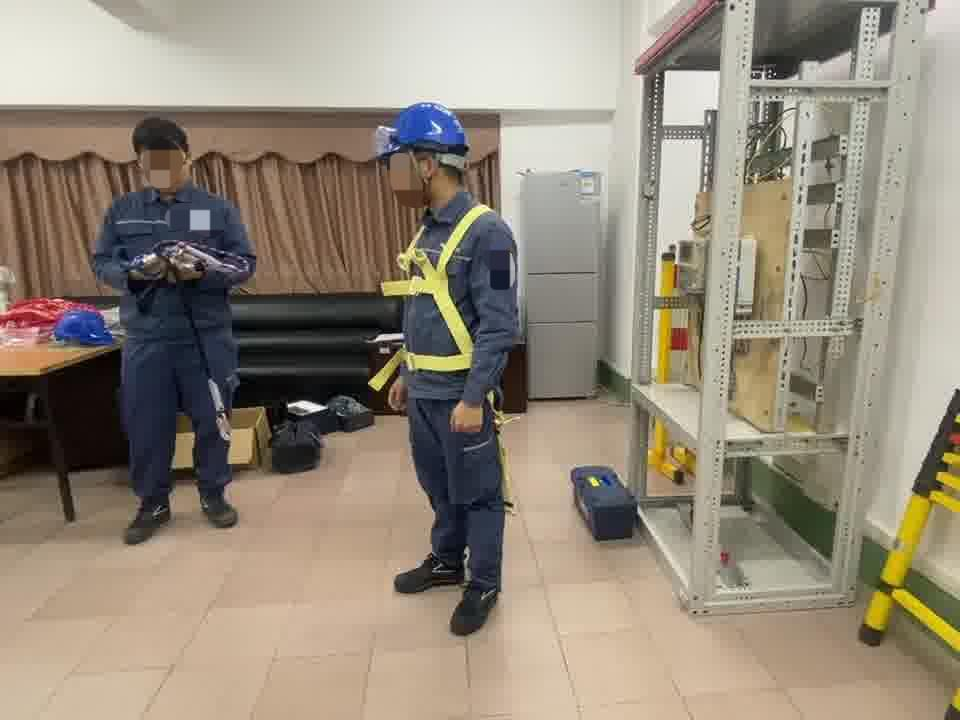halt: (378, 104, 474, 205)
inear: (407, 149, 447, 196)
unhalt: (134, 120, 197, 192)
